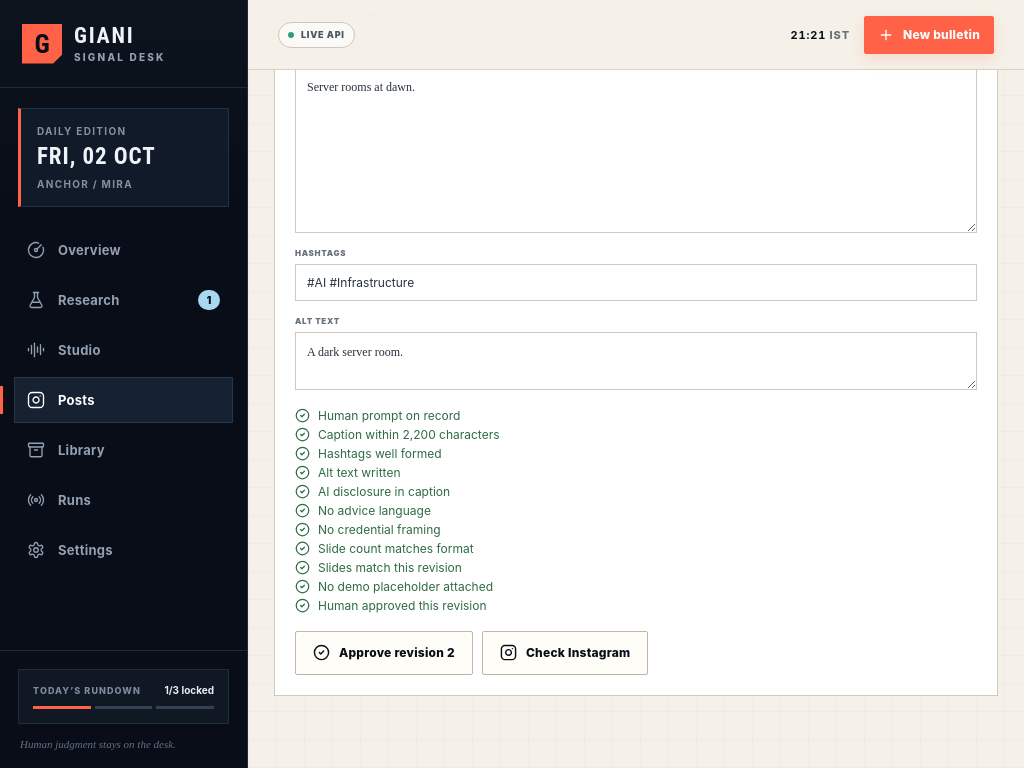
Test: Post Studio › surfaces the backend's blockers instead of a bare status code
(page scrolled)
Click the button "Check Instagram": (565, 653) [482,631,648,675]
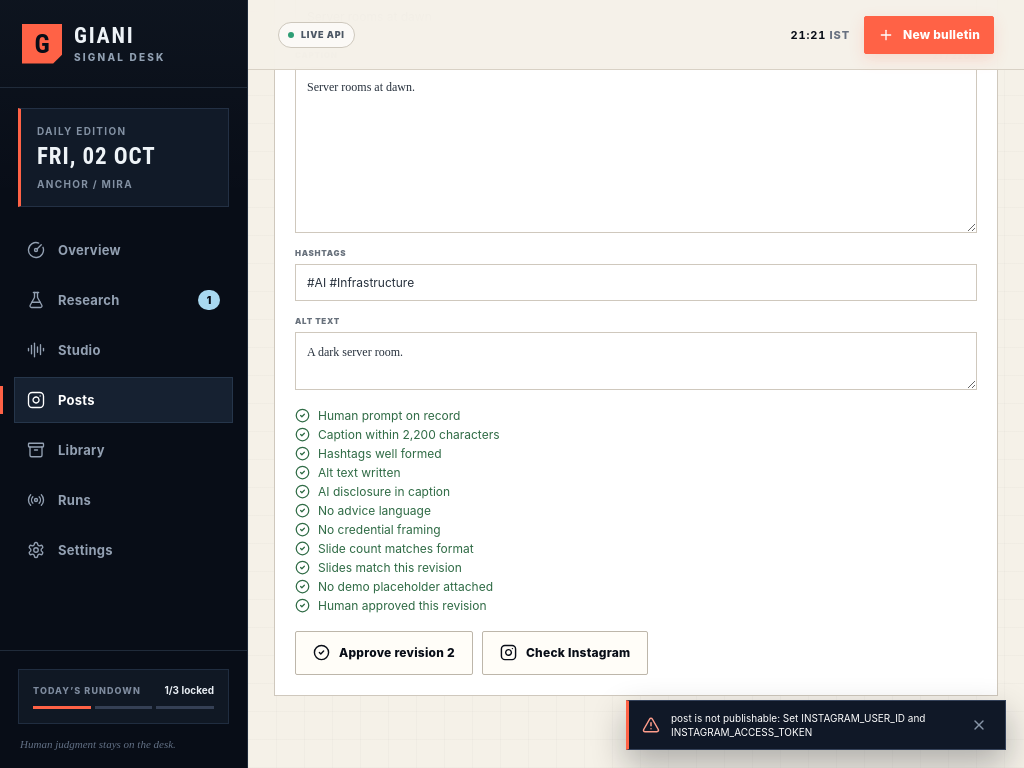
Result: the text "Set INSTAGRAM_USER_ID and INSTAGRAM_ACCESS_TOKEN" is shown at [671,712,926,738]
